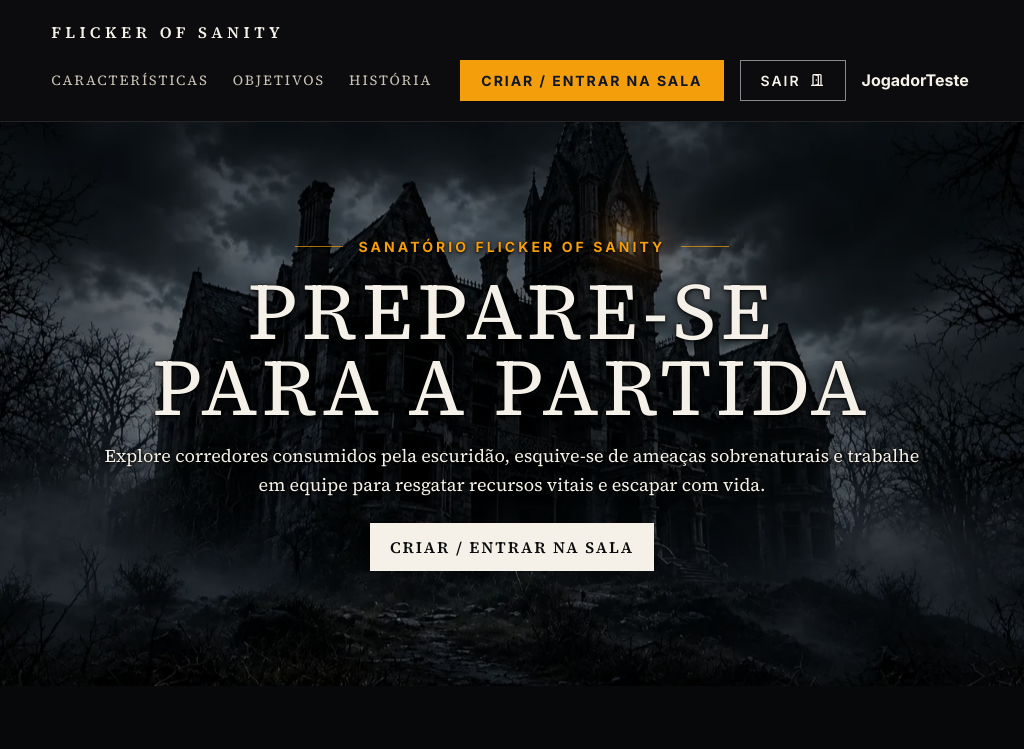
authentication states › authenticated header Criar / Entrar na Sala action navigates to the create room page
The width and height of the screenshot is (1024, 749).
Click the link "Criar / Entrar na Sala" in the row of "JogadorTeste".
click(592, 80)  # box [460,60,724,101]
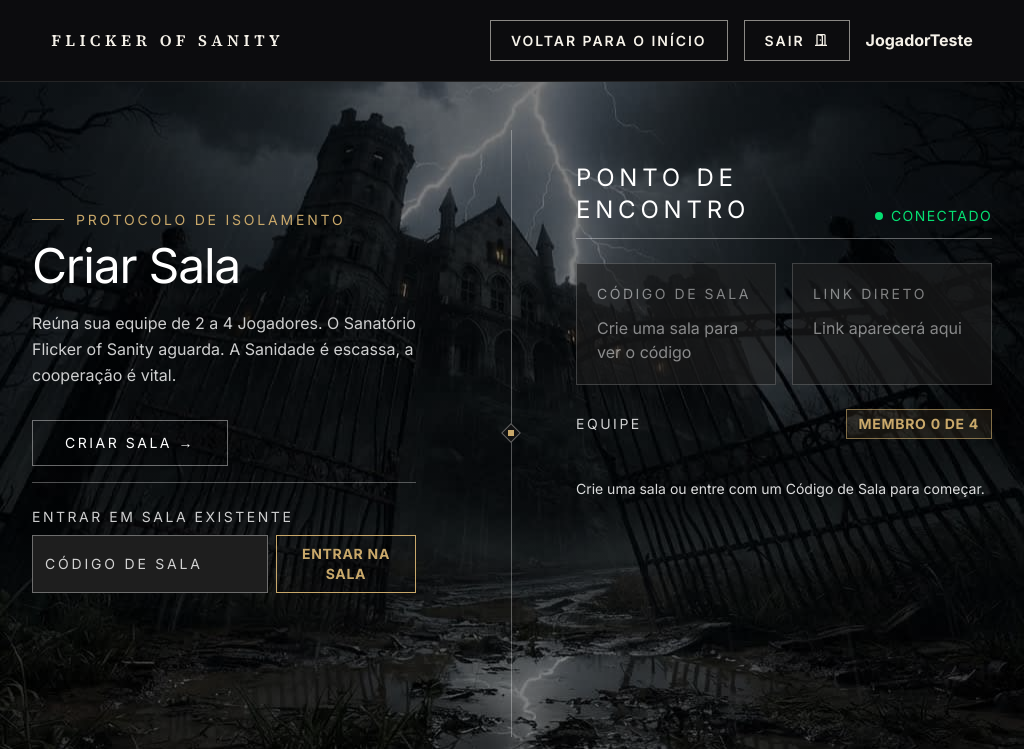
Check: the heading "Criar Sala" is shown, box [32,236,240,295]
